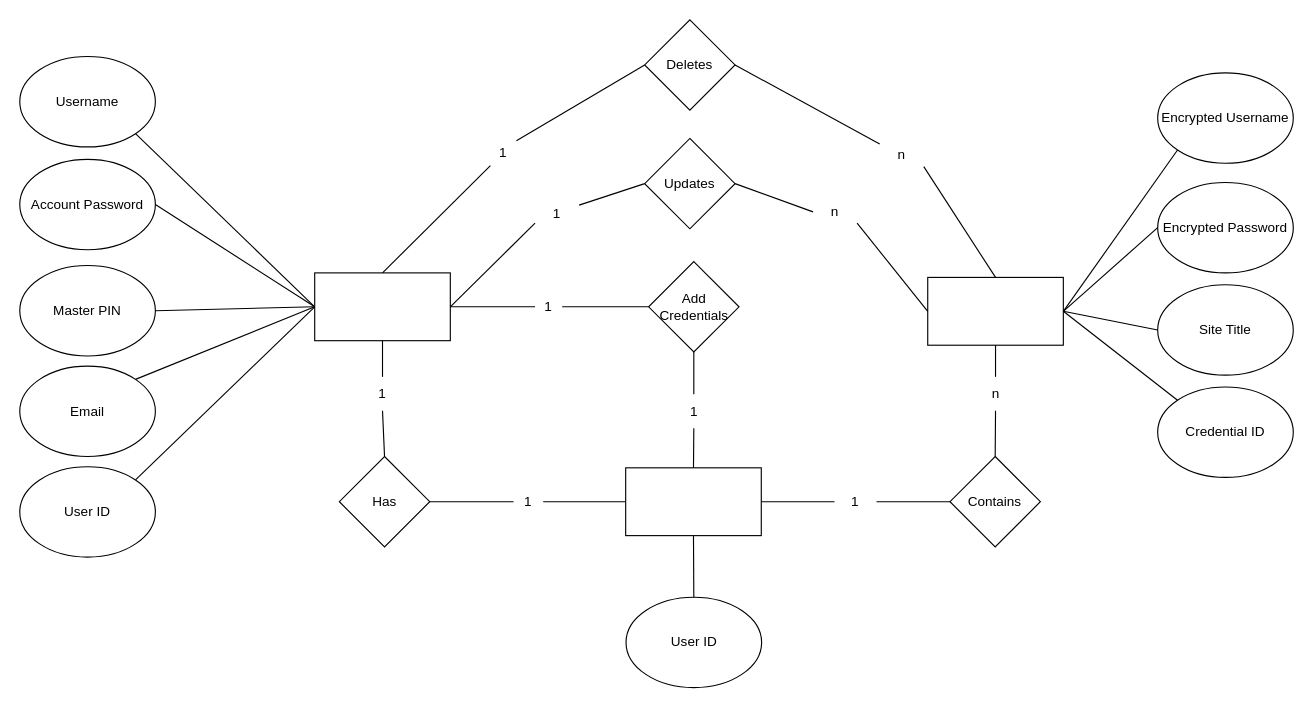
The diagram is 1313 pixels wide and 707 high, and some of its shapes have lost their labels. The shapes that lost their labels are listed below. From the top down, each one's box as (x1, y1, x2, y2) in pixels, then its label:
(314, 272, 450, 341): User
(927, 276, 1063, 345): Credentials
(625, 467, 761, 536): List
